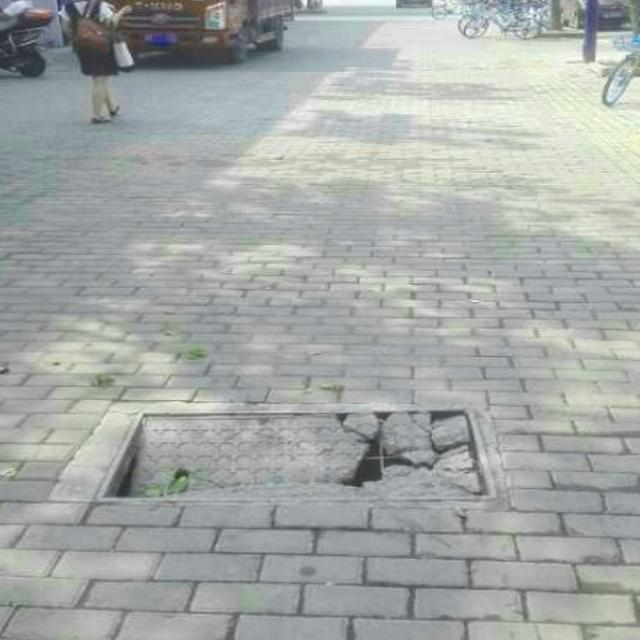broke: (93, 405, 504, 506)
